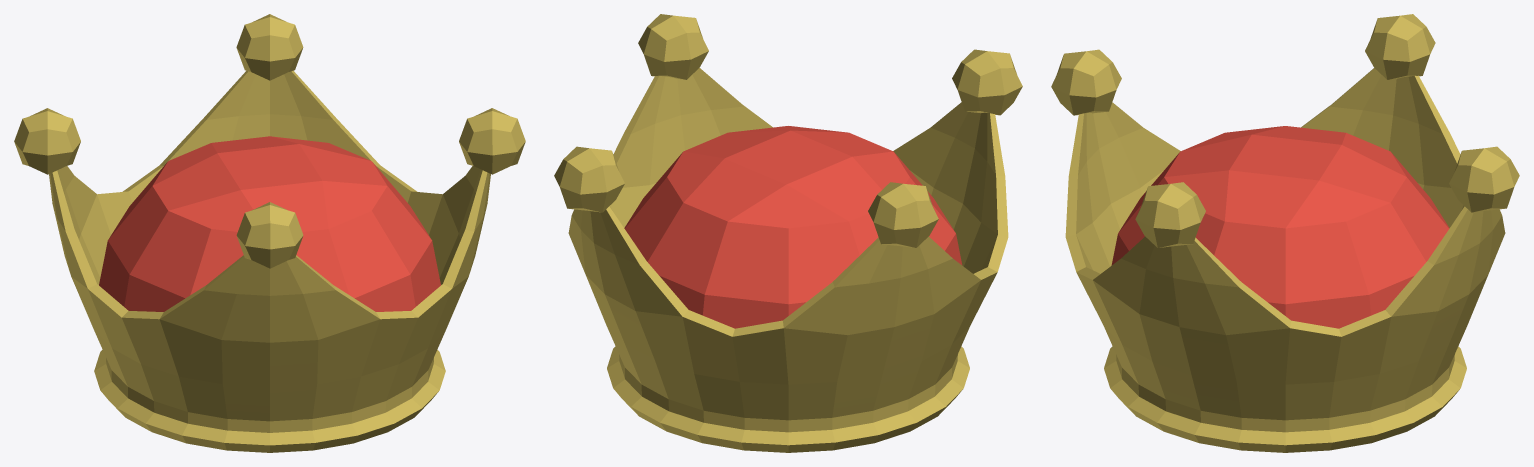
File: crown2.glb
3 renders of one model, left to right at view 1: azimuth 30°, elevation 25°; view 2: azimuth 150°, elevation 25°; view 3: azimuth 270°, elevation 25°, orthographic. The views are drawn at different scales.
Visible parts, largest first — view 1: Crown2; view 2: Crown2; view 3: Crown2.
Boxes of the visible parts, bbox=[...] form: Crown2: bbox=[14, 14, 525, 452]; Crown2: bbox=[554, 14, 1022, 452]; Crown2: bbox=[1051, 14, 1519, 452].
Bounding box in the file's own units: 0.8862 × 0.585 × 0.8862.
